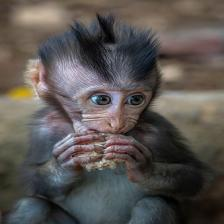monkey: (28, 17, 184, 224)
